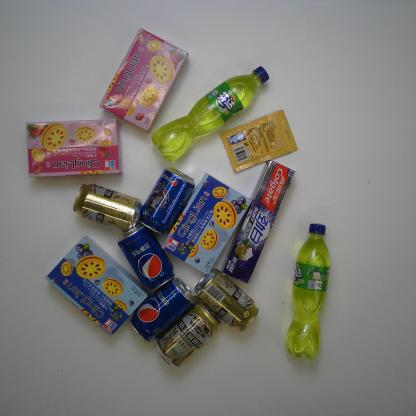Alcohol: (155, 300, 222, 370), (194, 267, 260, 332), (72, 182, 144, 232)
Dessert: (44, 235, 148, 338), (160, 171, 252, 276), (98, 26, 188, 133), (26, 119, 122, 179)
Drink: (150, 66, 270, 162), (285, 223, 332, 360), (128, 276, 197, 344), (116, 221, 176, 292), (138, 166, 195, 233)
Personal Hygiene: (221, 160, 296, 285)
Seasoner: (218, 108, 298, 176)
